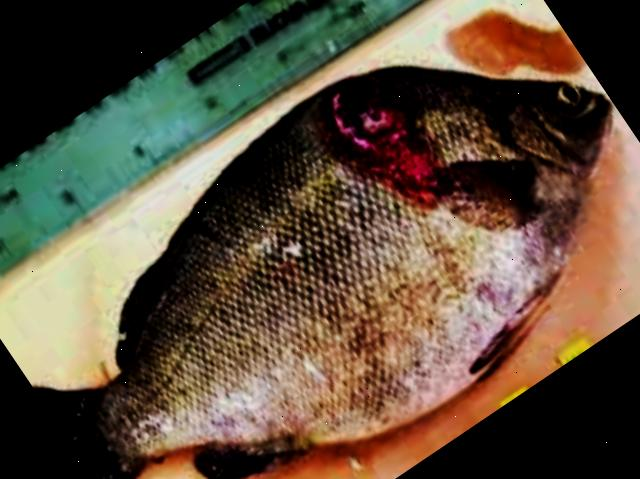Epizootic Ulcerative Syndrome -EUS-: (33, 66, 608, 479), (75, 65, 608, 479)
